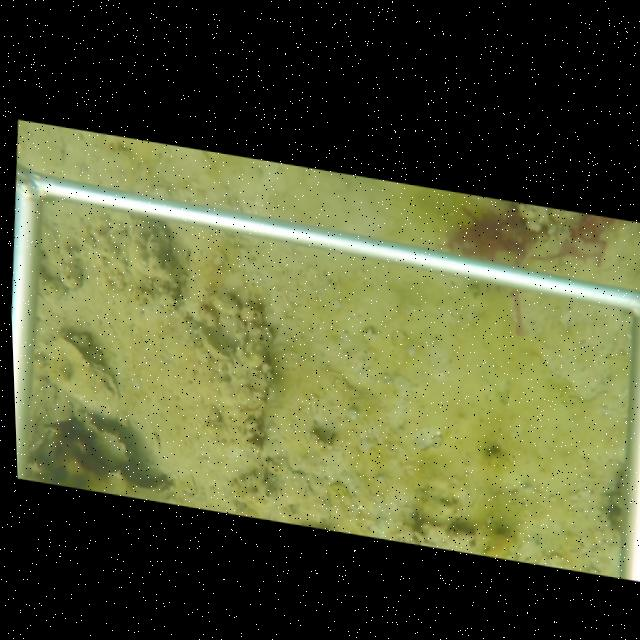Oyster-Closed: (35, 336, 125, 427)
